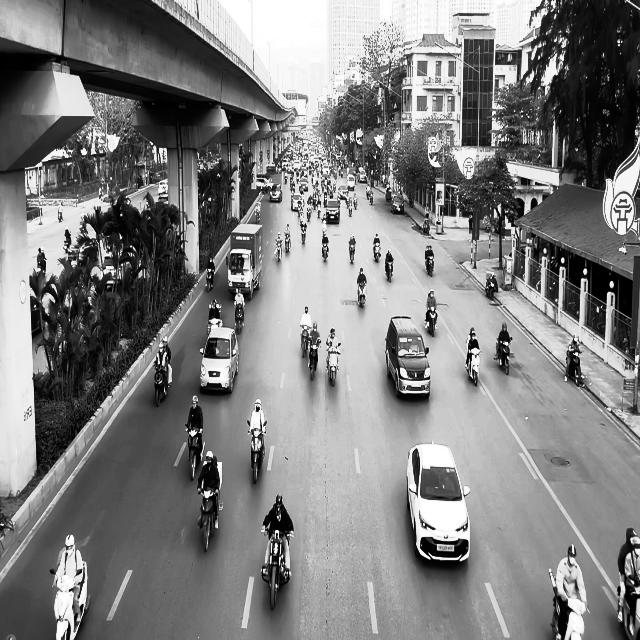car: (406, 440, 471, 564), (385, 315, 431, 399), (200, 327, 240, 394), (390, 194, 404, 214)
motorbike: (50, 560, 91, 640), (261, 524, 294, 610), (197, 462, 223, 551), (247, 419, 267, 484), (185, 425, 205, 480), (153, 362, 170, 407), (565, 349, 585, 387), (494, 336, 513, 374), (465, 347, 482, 386), (326, 342, 341, 386), (307, 338, 322, 381), (425, 308, 438, 337), (485, 272, 498, 299), (301, 326, 311, 358), (235, 302, 244, 334), (357, 281, 367, 307), (206, 267, 215, 292), (385, 259, 394, 282), (426, 253, 434, 277), (322, 236, 329, 262), (274, 242, 282, 262), (374, 241, 381, 262), (423, 216, 430, 235), (349, 244, 356, 263), (301, 222, 307, 244), (285, 232, 291, 252)
truck: (226, 222, 264, 300)
